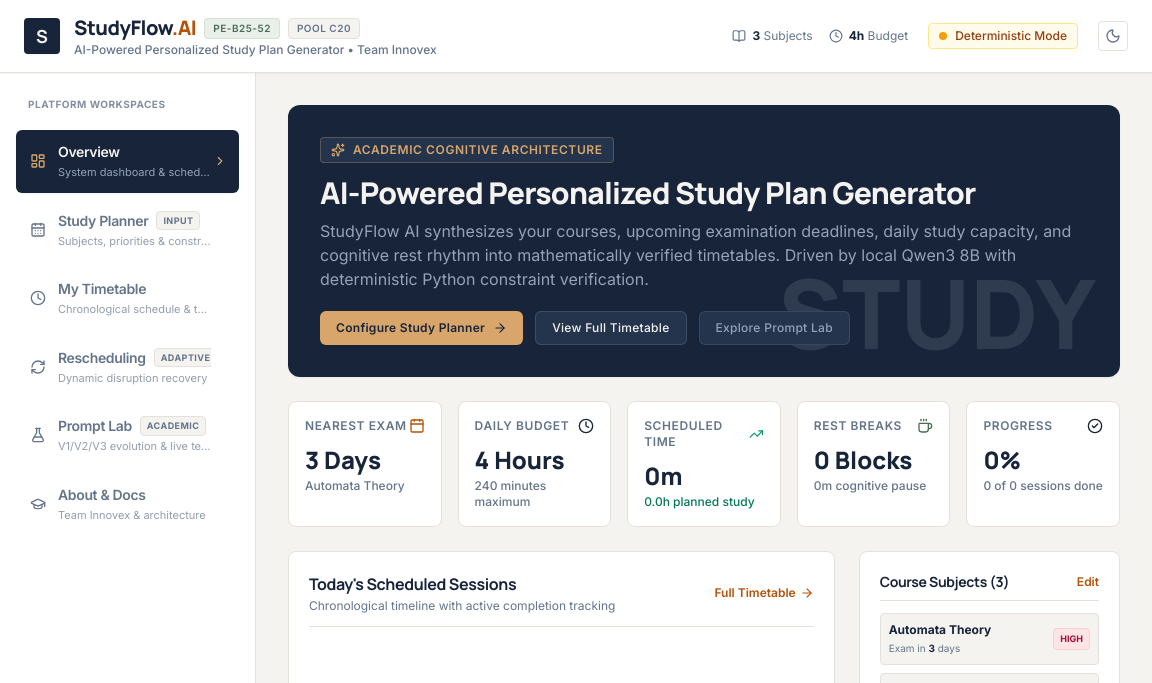
StudyFlow AI Application Workspaces Navigation › switches to My Timetable workspace on navigation click
Step 1. Click the text "My Timetable" → point(102, 289), box [58,279,146,299]
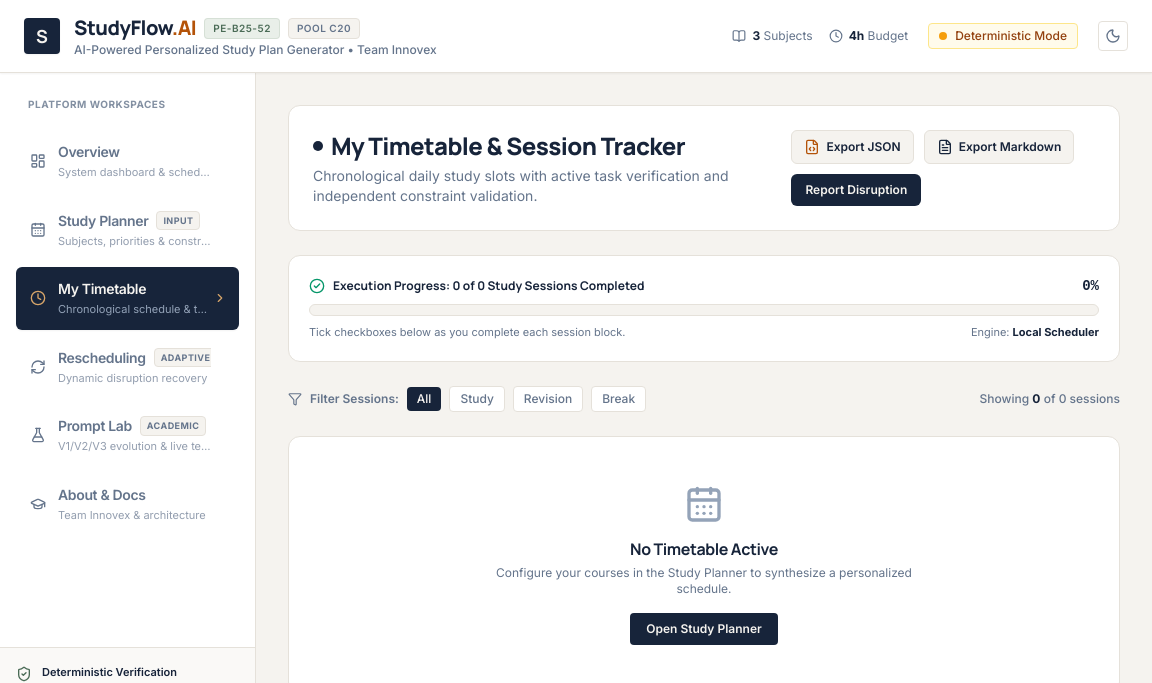
Check: the heading "My Timetable & Session Tracker" is shown, box [331,130,685,162]
Check: the text "Export JSON" is shown, box [826,139,901,155]
Check: the text "Export Markdown" is shown, box [959,139,1061,155]
